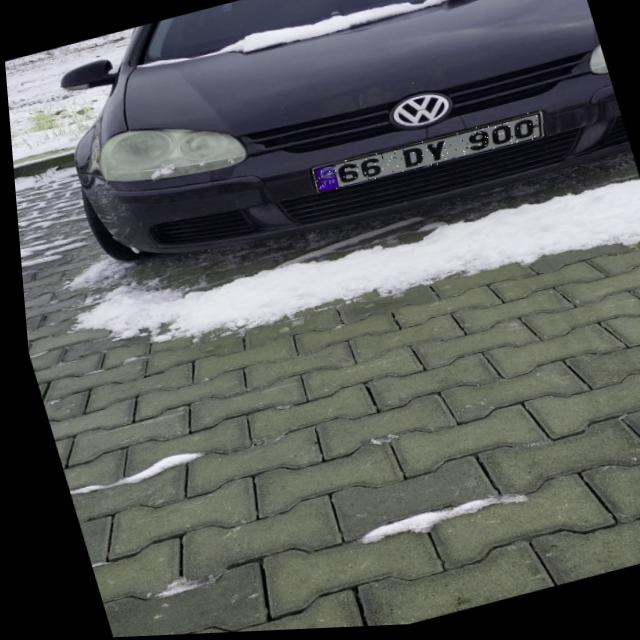license_plate: (303, 114, 546, 198)
